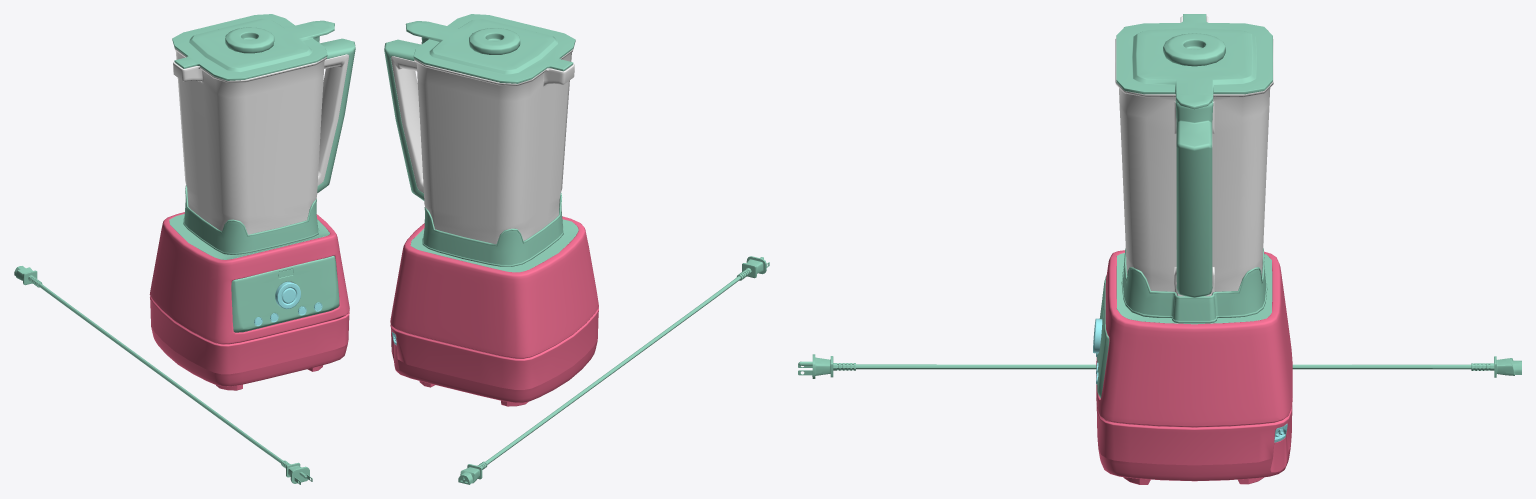
Rendered from mixer grinder.fbx.
3 renders of one model, left to right at view 1: azimuth 30°, elevation 25°; view 2: azimuth 150°, elevation 25°; view 3: azimuth 270°, elevation 25°, orthographic. The views are drawn at different scales.
Visible parts, largest first — view 1: Blender_Jug_Glass, Blender_Engine_Casing, Blender_Jug_Top, Blender_Engine_Indicator_Interface, Blender_Jug_Base_Bottom, Blender_Engine_Casing.001, Blender_Jug_Hand_Attachment, Blender_Wire, Blender_Jug_Top_Part, Blender_Engine_Top, Blender_Engine_Knub, Blender_Wall_Plug_Rubber (+1 smaller); view 2: Blender_Jug_Glass, Blender_Engine_Casing, Blender_Jug_Top, Blender_Jug_Base_Bottom, Blender_Engine_Casing.001, Blender_Jug_Hand_Attachment, Blender_Wire, Blender_Engine_Top, Blender_Jug_Top_Part, Blender_Wall_Plug_Rubber, Blender_Socket_Plug; view 3: Blender_Engine_Casing, Blender_Jug_Glass, Blender_Jug_Top, Blender_Jug_Hand_Attachment, Blender_Jug_Base_Bottom, Blender_Engine_Casing.001, Blender_Wire, Blender_Jug_Top_Part, Blender_Engine_Top.
Boxes of the visible parts, x1,y1,x2,y2 form: Blender_Jug_Glass: (173, 44, 349, 234); Blender_Engine_Casing: (149, 212, 349, 374); Blender_Jug_Top: (172, 14, 334, 80); Blender_Engine_Indicator_Interface: (231, 256, 339, 332); Blender_Jug_Base_Bottom: (183, 185, 318, 254); Blender_Engine_Casing.001: (151, 327, 347, 390); Blender_Jug_Hand_Attachment: (317, 38, 355, 192); Blender_Wire: (38, 283, 282, 463); Blender_Jug_Top_Part: (225, 27, 274, 53); Blender_Engine_Top: (169, 214, 329, 259); Blender_Engine_Knub: (275, 281, 300, 308); Blender_Wall_Plug_Rubber: (281, 460, 309, 483); Blender_Jug_Glass: (391, 46, 574, 244); Blender_Engine_Casing: (390, 216, 598, 389); Blender_Jug_Top: (405, 14, 575, 83); Blender_Jug_Base_Bottom: (422, 192, 563, 266); Blender_Engine_Casing.001: (395, 341, 597, 406); Blender_Jug_Hand_Attachment: (384, 39, 424, 200); Blender_Wire: (485, 276, 740, 464); Blender_Engine_Top: (410, 219, 578, 272); Blender_Jug_Top_Part: (469, 28, 520, 54); Blender_Wall_Plug_Rubber: (737, 256, 766, 280); Blender_Socket_Plug: (458, 461, 487, 484); Blender_Engine_Casing: (1096, 250, 1292, 472); Blender_Jug_Glass: (1115, 16, 1273, 296); Blender_Jug_Top: (1116, 14, 1272, 109); Blender_Jug_Hand_Attachment: (1175, 98, 1213, 297); Blender_Jug_Base_Bottom: (1121, 248, 1267, 323); Blender_Engine_Casing.001: (1098, 448, 1290, 484); Blender_Wire: (856, 364, 1471, 369); Blender_Jug_Top_Part: (1163, 33, 1225, 66); Blender_Engine_Top: (1116, 253, 1272, 324).
Size of the model in its own units: 35.91 by 51.95 by 83.15.
